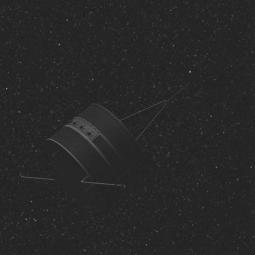double_start: (11, 72, 194, 205)
